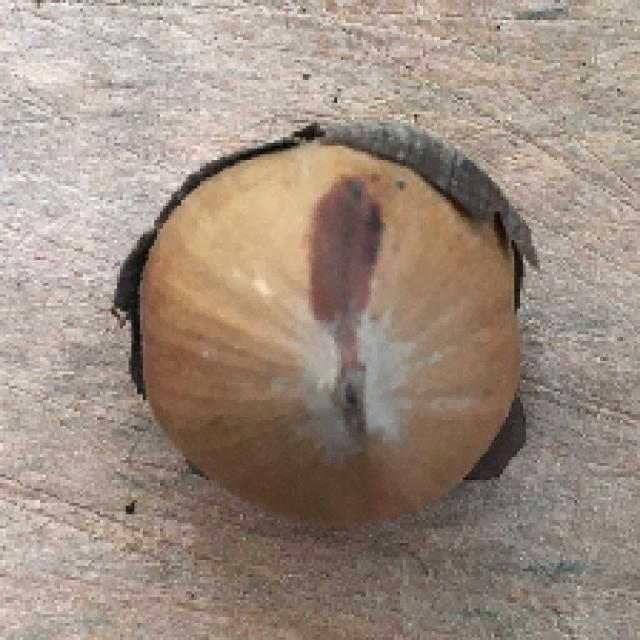DamagedHazelnut: (117, 118, 524, 522)
